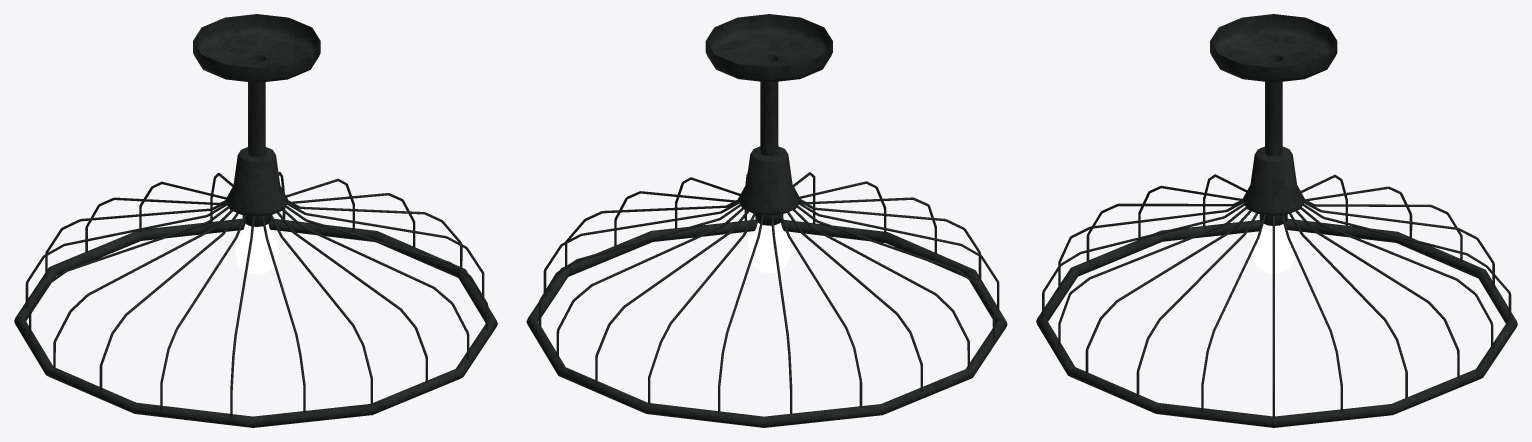
File: Lights_Overhead_2.fbx
3 views of the same model, side by side, from view 1: azimuth 30°, elevation 25°; view 2: azimuth 150°, elevation 25°; view 3: azimuth 270°, elevation 25° (orthographic).
Parts seen in each view (by area): view 1: Cylinder.003; view 2: Cylinder.003; view 3: Cylinder.003.
Boxes of the visible parts, x1,y1,x2,y2 form: Cylinder.003: (14,14,497,427); Cylinder.003: (526,14,1007,427); Cylinder.003: (1036,14,1517,427).
Size of the model in its own units: 78.5 by 51.52 by 78.5.
